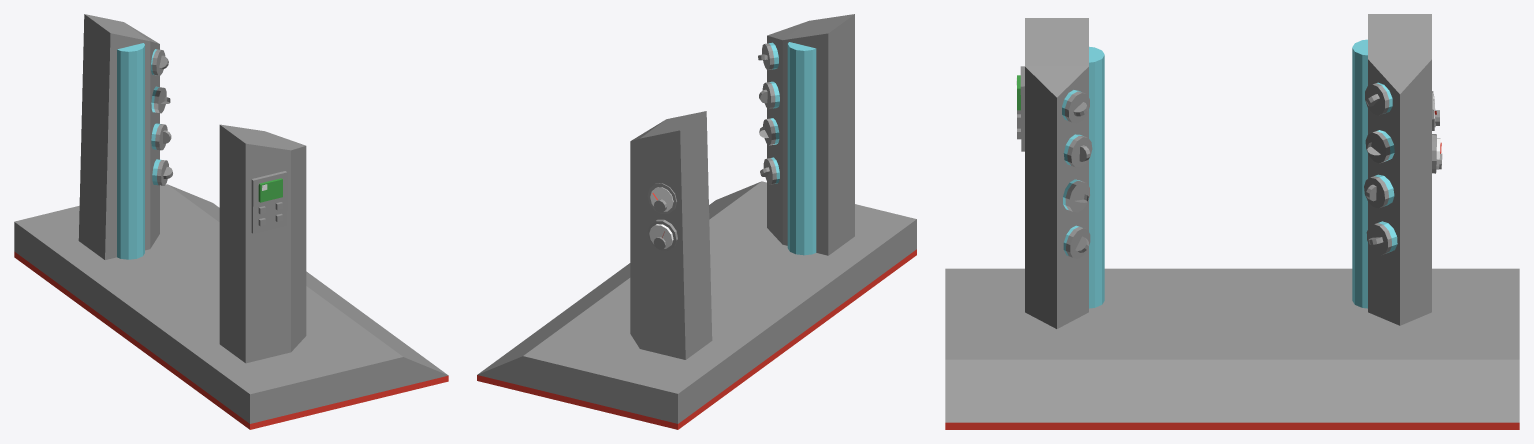
File: The portal door.glb
3 views of the same model, side by side, from view 1: azimuth 30°, elevation 25°; view 2: azimuth 150°, elevation 25°; view 3: azimuth 270°, elevation 25° (orthographic). The views are drawn at different scales.
Visible parts, largest first — view 1: group1399519930, group1775543033, group1298095072, group1431686580, group1856922121, group2084610088, group906856088, group601548074; view 2: group1399519930, group1298095072, group1775543033, group1439101111, group1856922121, group2084610088; view 3: group1399519930, group1856922121, group1298095072, group1775543033, group2084610088, group1431686580, group1439101111, group683197881, group150757384, group540856211, group1836870038.
Boxes of the visible parts, <box> form: group1399519930: <box>14,184,403,423</box>; group1775543033: <box>219,124,306,363</box>; group1298095072: <box>78,14,159,259</box>; group1431686580: <box>117,43,144,259</box>; group1856922121: <box>168,184,448,386</box>; group2084610088: <box>14,251,448,429</box>; group906856088: <box>251,171,287,233</box>; group601548074: <box>258,178,282,202</box>; group1399519930: <box>523,181,916,423</box>; group1298095072: <box>630,111,712,359</box>; group1775543033: <box>767,14,854,255</box>; group1439101111: <box>787,42,816,255</box>; group1856922121: <box>477,182,760,385</box>; group2084610088: <box>477,249,916,429</box>; group1399519930: <box>945,268,1519,359</box>; group1856922121: <box>945,359,1519,422</box>; group1298095072: <box>1368,14,1431,325</box>; group1775543033: <box>1025,18,1088,328</box>; group2084610088: <box>945,422,1519,429</box>; group1431686580: <box>1352,39,1367,308</box>; group1439101111: <box>1089,46,1104,308</box>; group683197881: <box>1065,180,1089,212</box>; group150757384: <box>1366,223,1391,255</box>; group540856211: <box>1365,131,1390,163</box>; group1836870038: <box>1365,83,1389,115</box>.
Bounding box in the file's own units: 0.35 × 0.44 × 0.72.
